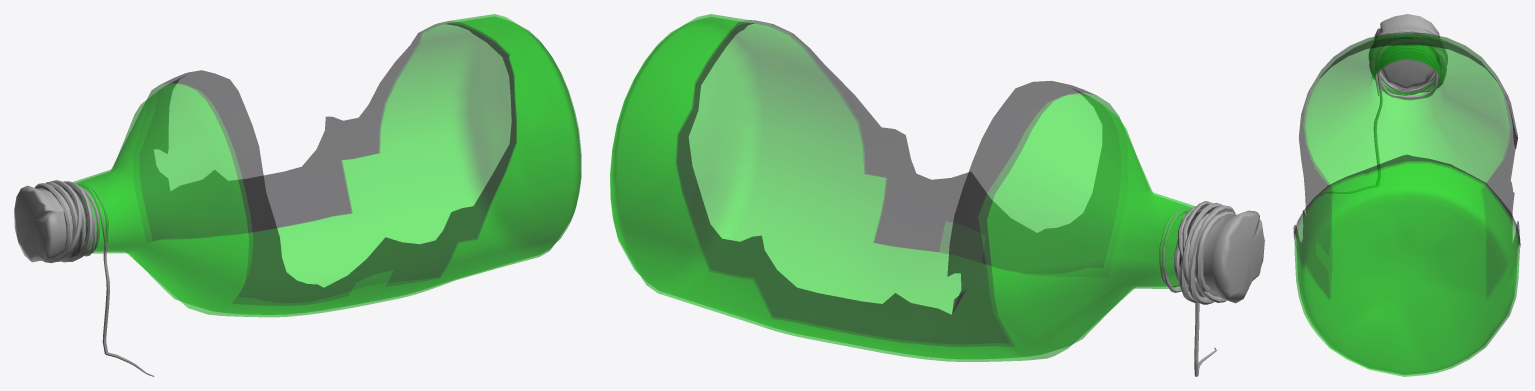
File: BrokenShipBottle.fbx
The picture shows the model from 3 angles, left to right: view 1: azimuth 30°, elevation 25°; view 2: azimuth 150°, elevation 25°; view 3: azimuth 270°, elevation 25°; orthographic projection. The views are drawn at different scales.
Visible parts, largest first — view 1: Ship3:pCylinder1, Ship3:pCylinder2, Ship3:pDisc1, Ship3:pDisc2; view 2: Ship3:pCylinder1, Ship3:pCylinder2, Ship3:pDisc1, Ship3:pDisc2; view 3: Ship3:pCylinder1, Ship3:pCylinder2, Ship3:pDisc1, Ship3:pDisc2.
Part boxes in pixels (x1,y1,x2,y2): Ship3:pCylinder1: [56, 14, 581, 317]; Ship3:pCylinder2: [14, 185, 87, 262]; Ship3:pDisc1: [34, 180, 154, 376]; Ship3:pDisc2: [46, 181, 106, 262]; Ship3:pCylinder1: [610, 14, 1214, 361]; Ship3:pCylinder2: [1179, 210, 1264, 303]; Ship3:pDisc1: [1159, 202, 1236, 376]; Ship3:pDisc2: [1161, 201, 1213, 302]; Ship3:pCylinder1: [1293, 32, 1520, 376]; Ship3:pCylinder2: [1374, 14, 1440, 89]; Ship3:pDisc1: [1321, 25, 1447, 195]; Ship3:pDisc2: [1369, 29, 1446, 100].
Bounding box in the file's own units: 50.47 × 23.68 × 22.14.
